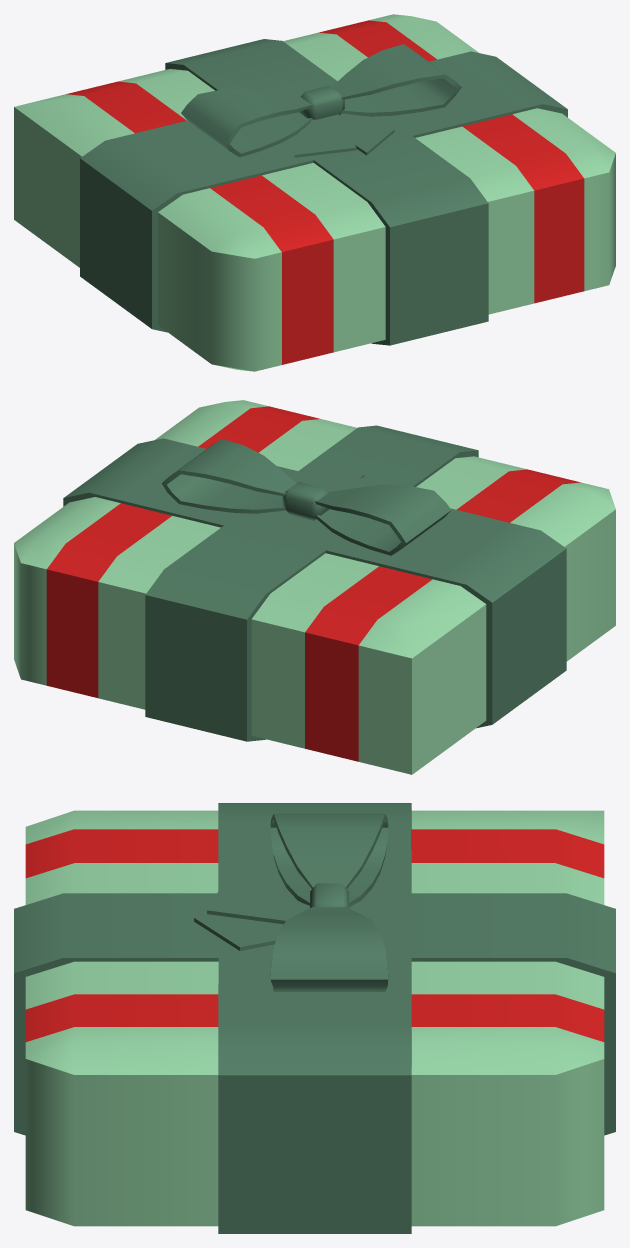
Rendered from Gift_31_231109.glb.
The picture shows the model from 3 angles, top to bottom: view 1: azimuth 30°, elevation 25°; view 2: azimuth 150°, elevation 25°; view 3: azimuth 270°, elevation 25°; orthographic projection. The views are drawn at different scales.
Parts seen in each view (by area): view 1: Gift_31; view 2: Gift_31; view 3: Gift_31.
Part boxes in pixels (<box>): Gift_31: <box>14,14,615,371</box>; Gift_31: <box>14,400,615,774</box>; Gift_31: <box>14,803,615,1233</box>.
Bounding box in the file's own units: 0.7127 × 0.2869 × 0.666.
1 material, 1 textured.
